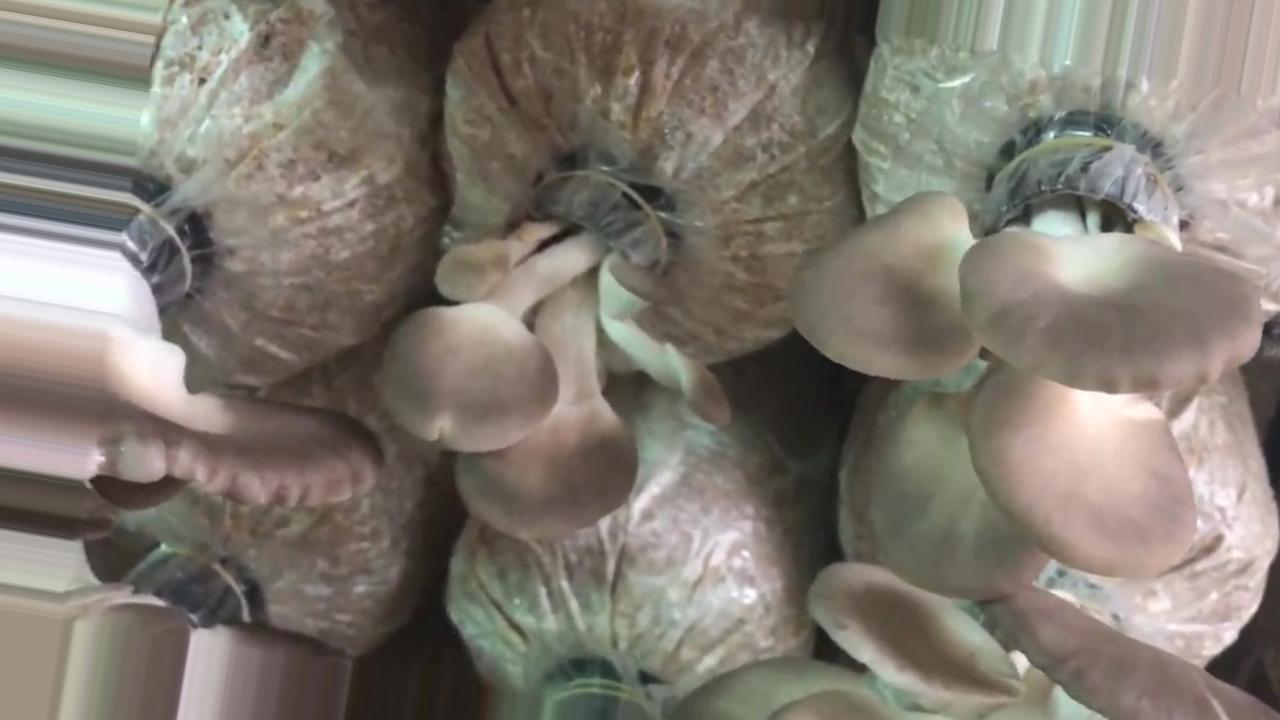nam: (786, 124, 1263, 598), (377, 150, 731, 538), (667, 578, 1280, 718), (130, 406, 373, 507)
